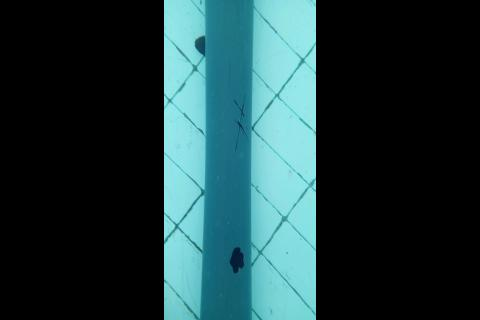kebocoran: (228, 245, 245, 274)
keretakan: (233, 96, 248, 152)
